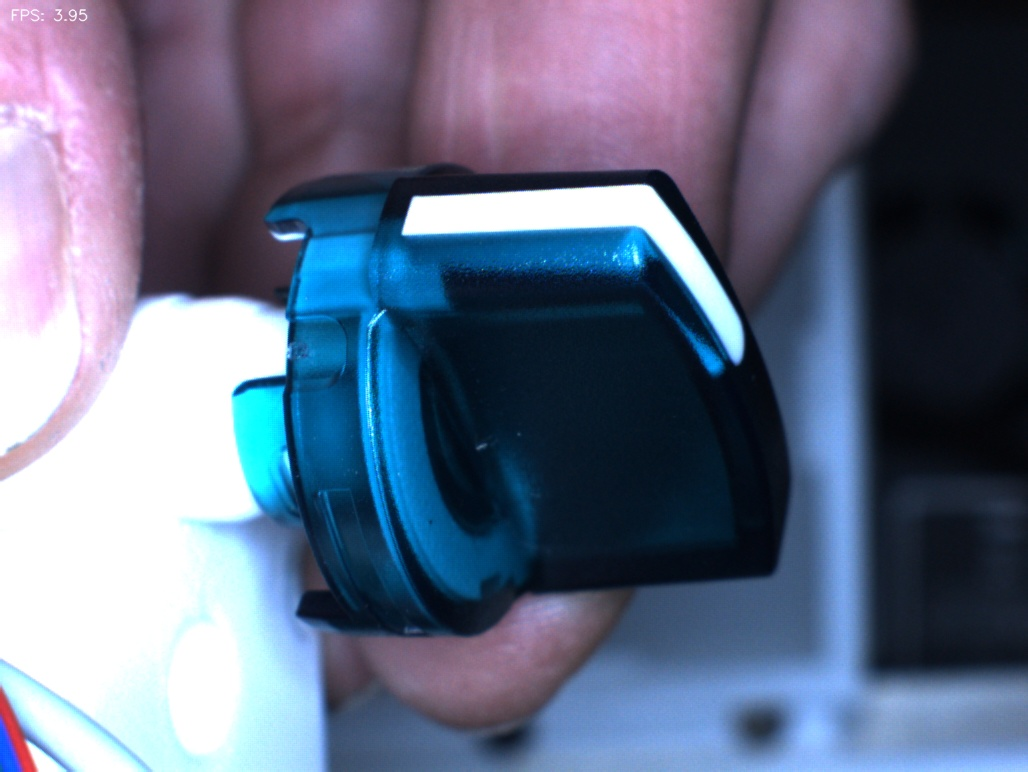PointNoir: (400, 491, 465, 552)
